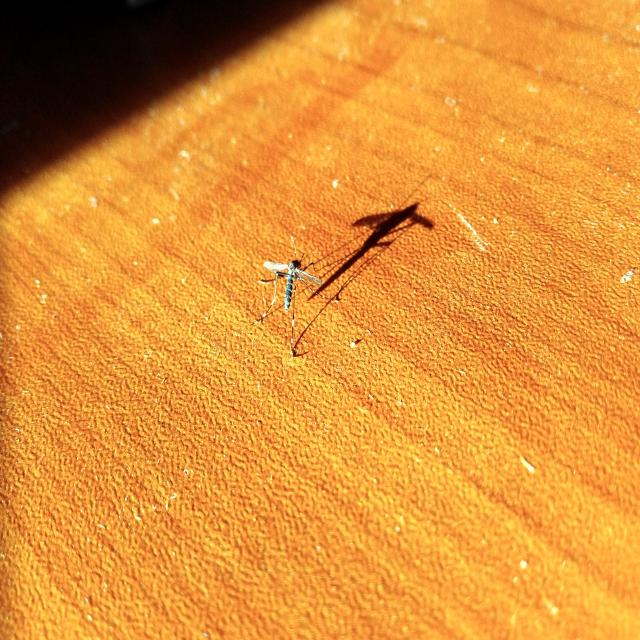albopictus: (247, 180, 437, 361)
